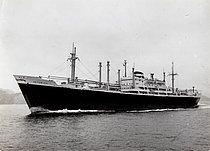Ship: (10, 38, 205, 121)
